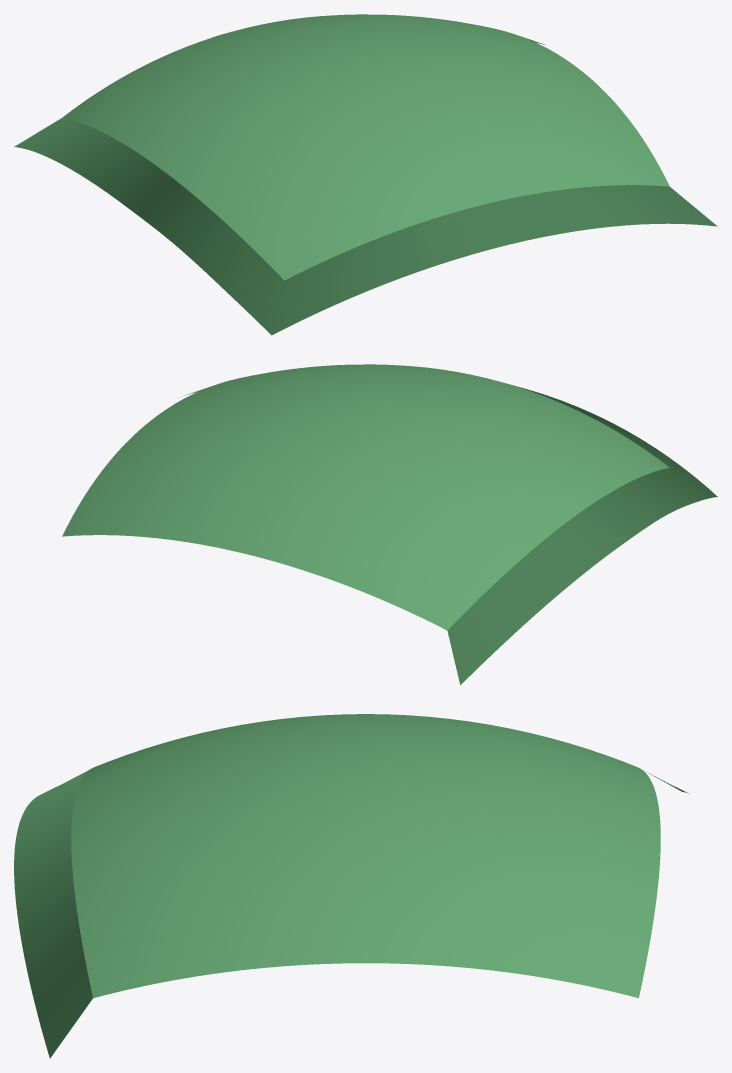
File: platforms.glb
The picture shows the model from 3 angles, top to bottom: view 1: azimuth 30°, elevation 25°; view 2: azimuth 150°, elevation 25°; view 3: azimuth 270°, elevation 25°; orthographic projection. The views are drawn at different scales.
Parts seen in each view (by area): view 1: n1; view 2: n1; view 3: n1.
Part boxes in pixels (left/top/right/bottom): n1: left=14, top=14, right=717, bottom=335; n1: left=62, top=364, right=717, bottom=684; n1: left=14, top=714, right=688, bottom=1058.
Bounding box in the file's own units: 157 × 35.39 × 157.
